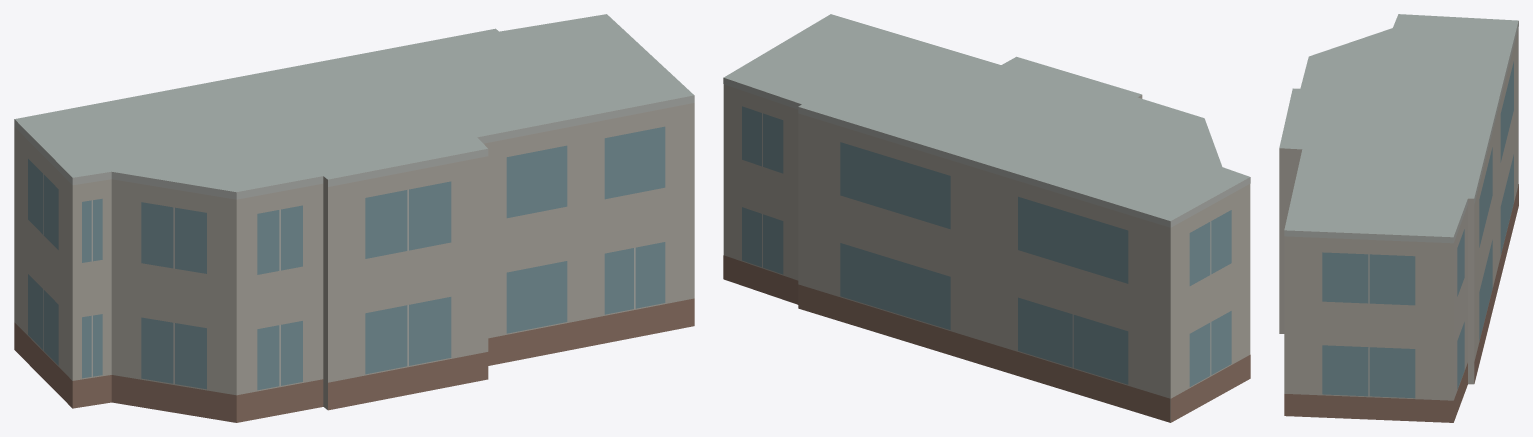
File: survey-upis-32907376.glb
3 views of the same model, side by side, from view 1: azimuth 30°, elevation 25°; view 2: azimuth 150°, elevation 25°; view 3: azimuth 270°, elevation 25° (orthographic). The views are drawn at different scales.
Visible parts, largest first — view 1: survey-upis-32907376.tmp; view 2: survey-upis-32907376.tmp; view 3: survey-upis-32907376.tmp.
Boxes of the visible parts, box(x1,y1,x2,y2) form: survey-upis-32907376.tmp: box(14, 14, 694, 422); survey-upis-32907376.tmp: box(723, 14, 1250, 422); survey-upis-32907376.tmp: box(1279, 14, 1518, 422).
Bounding box in the file's own units: 19.35 × 7.5 × 8.78.
